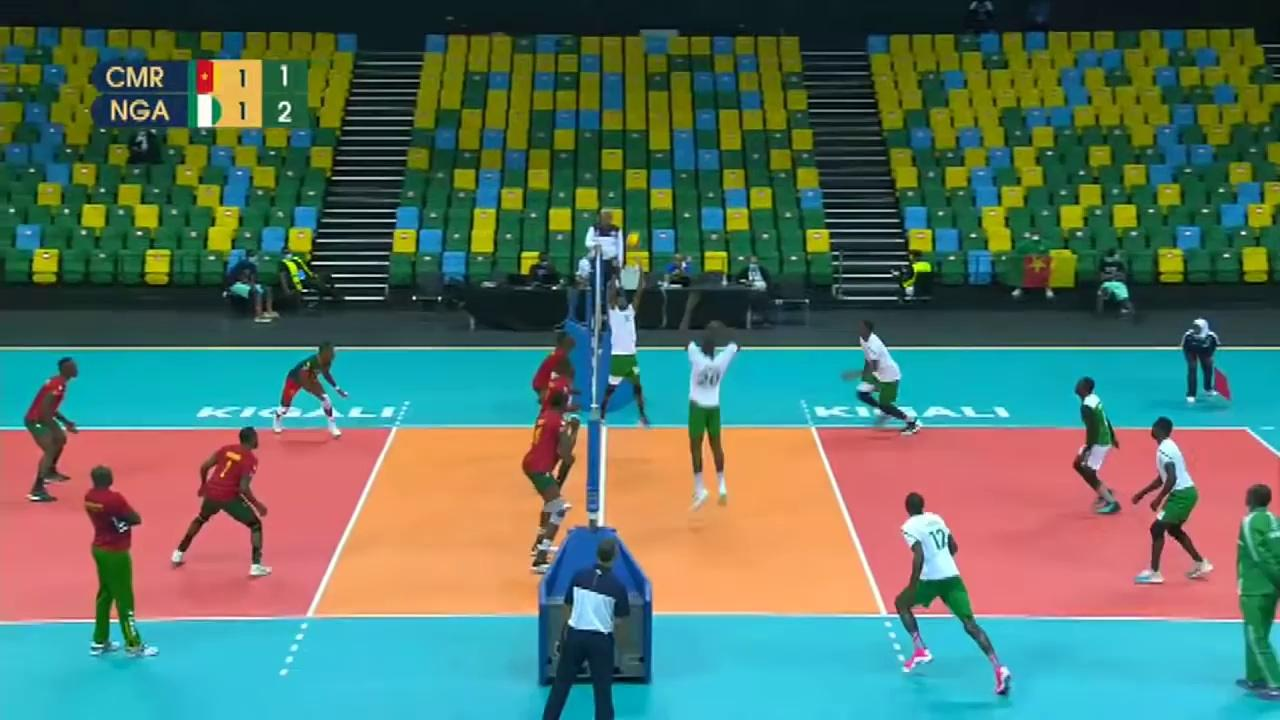player: (893, 494, 1013, 691), (173, 427, 271, 576), (1134, 418, 1212, 584), (687, 324, 746, 505), (24, 358, 86, 498), (524, 390, 572, 559), (842, 322, 917, 430), (602, 276, 653, 431), (532, 362, 580, 516), (530, 328, 582, 467), (1072, 377, 1124, 513), (272, 345, 348, 436)
refree: (552, 542, 629, 720), (1184, 318, 1231, 403), (586, 209, 626, 299)
